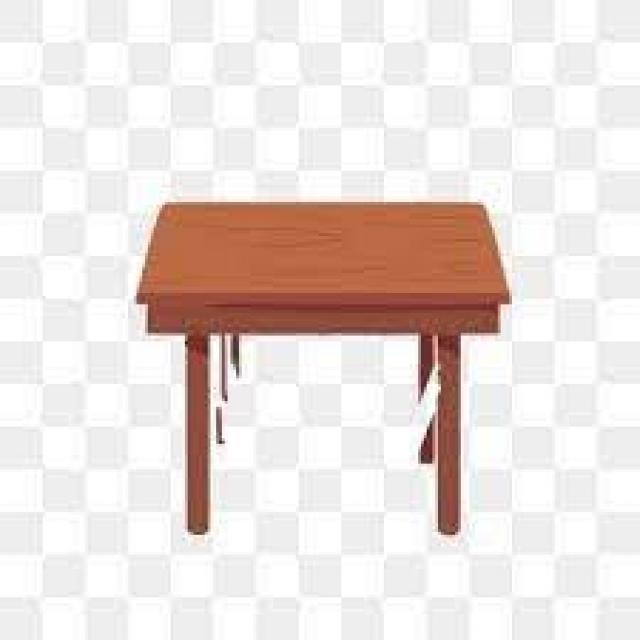table: (81, 138, 585, 587)
